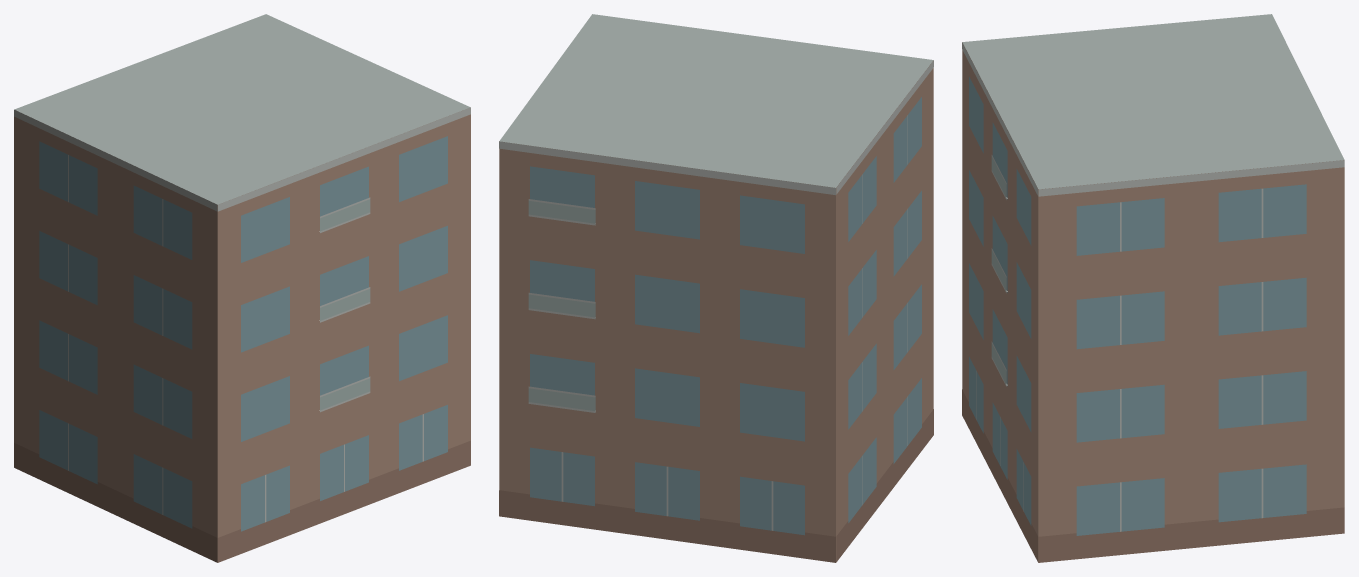
The model's file is survey-upis-32677438.glb.
3 views of the same model, side by side, from view 1: azimuth 30°, elevation 25°; view 2: azimuth 150°, elevation 25°; view 3: azimuth 270°, elevation 25° (orthographic). The views are drawn at different scales.
Parts seen in each view (by area): view 1: survey-upis-32677438.tmp; view 2: survey-upis-32677438.tmp; view 3: survey-upis-32677438.tmp.
Boxes of the visible parts, <box> form: survey-upis-32677438.tmp: <box>14,14,470,562</box>; survey-upis-32677438.tmp: <box>499,14,933,562</box>; survey-upis-32677438.tmp: <box>962,14,1344,562</box>.
Size of the model in its own units: 12.61 by 12.51 by 11.62.
